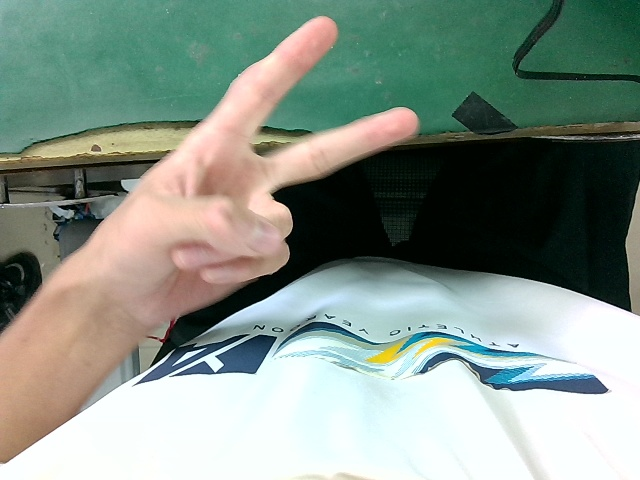scissor: (108, 10, 429, 335)
